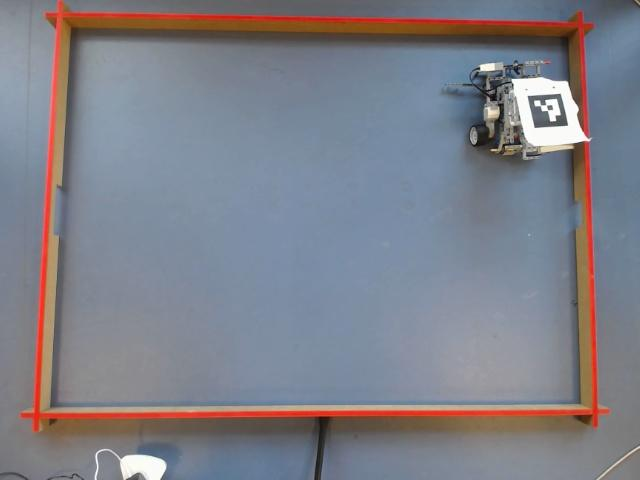ev3: (467, 62, 590, 159)
